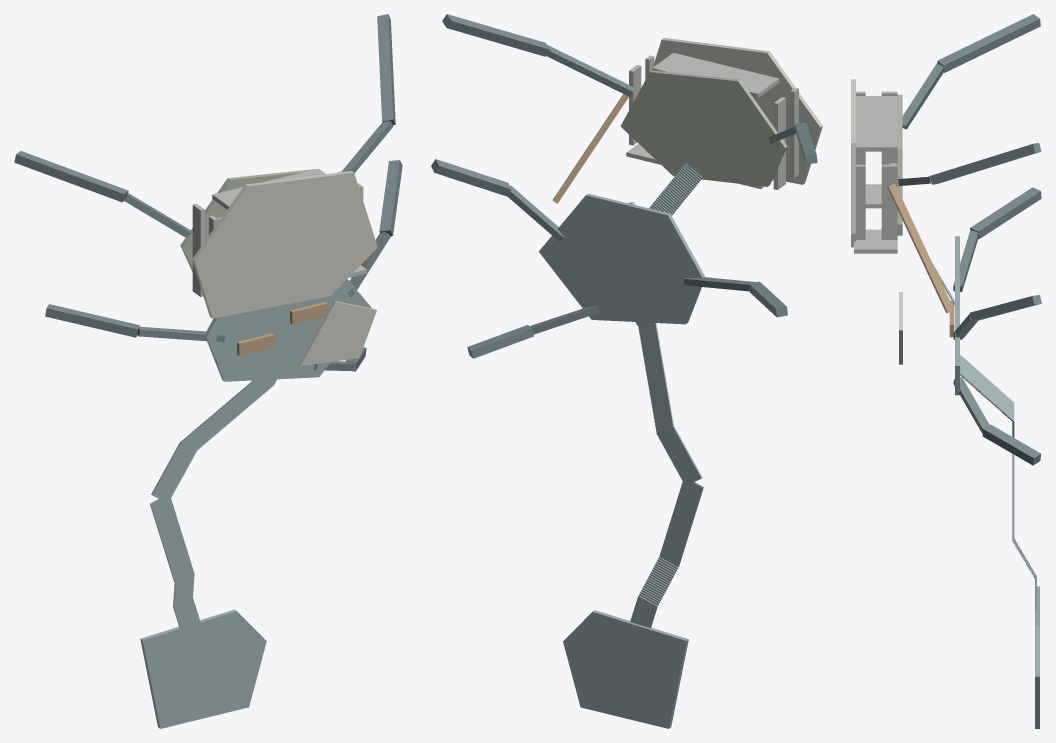
File: minus_maker.glb
3 views of the same model, side by side, from view 1: azimuth 30°, elevation 25°; view 2: azimuth 150°, elevation 25°; view 3: azimuth 270°, elevation 25° (orthographic).
Visible parts, largest first — view 1: living_roof, arrival_terrace, research_deck, research_partial_daylight_shade, route_0_exit, living_rib_0_upper, living_rib_1_upper, living_deck, research_rib_0_upper, route_1_entry, research_rib_1_upper, route_0_entry (+4 smaller); view 2: research_deck, living_deck, arrival_terrace, living_roof, living_rear, route_0_exit, living_rib_1_upper, route_1_entry, research_rib_1_upper, living_rib_1_lower, research_rib_2_upper, shared_research_living_transfer (+6 smaller); view 3: living_rear, living_rib_0_upper, shared_research_living_transfer, living_rib_1_upper, living_east_lower, research_rib_0_upper, research_rib_2_upper, living_roof, living_rib_0_lower, living_front_right, research_rib_1_upper, research_deck (+6 smaller).
Part boxes in pixels (box(x1,y1,x2,y2)): living_roof: box(192, 171, 377, 318); arrival_terrace: box(140, 609, 266, 728); research_deck: box(205, 279, 371, 381); research_partial_daylight_shade: box(298, 300, 376, 366); route_0_exit: box(150, 494, 193, 583); living_rib_0_upper: box(14, 151, 128, 202); living_rib_1_upper: box(377, 14, 395, 125); living_deck: box(180, 169, 315, 271); research_rib_0_upper: box(45, 304, 139, 337); route_1_entry: box(151, 441, 197, 498); research_rib_1_upper: box(379, 160, 402, 236); route_0_entry: box(172, 597, 207, 679); research_deck: box(539, 193, 705, 324); living_deck: box(620, 70, 787, 186); arrival_terrace: box(563, 610, 688, 728); living_roof: box(654, 38, 822, 184); living_rear: box(652, 53, 779, 97); route_0_exit: box(659, 477, 703, 565); living_rib_1_upper: box(442, 14, 550, 56); route_1_entry: box(656, 425, 702, 485); research_rib_1_upper: box(431, 159, 511, 196); living_rib_1_lower: box(546, 45, 634, 96); research_rib_2_upper: box(467, 325, 533, 358); shared_research_living_transfer: box(552, 94, 628, 203); living_rear: box(856, 96, 897, 151); living_rib_0_upper: box(937, 14, 1040, 72); shared_research_living_transfer: box(887, 183, 953, 313); living_rib_1_upper: box(930, 143, 1041, 184); living_east_lower: box(881, 164, 897, 239); research_rib_0_upper: box(970, 187, 1041, 238); research_rib_2_upper: box(982, 424, 1040, 465); living_roof: box(851, 79, 855, 247); living_rib_0_lower: box(902, 63, 943, 129); living_front_right: box(854, 229, 897, 253); research_rib_1_upper: box(970, 295, 1041, 321); research_deck: box(955, 236, 959, 395).
Size of the model in its own units: 65.72 by 107 by 28.36.
